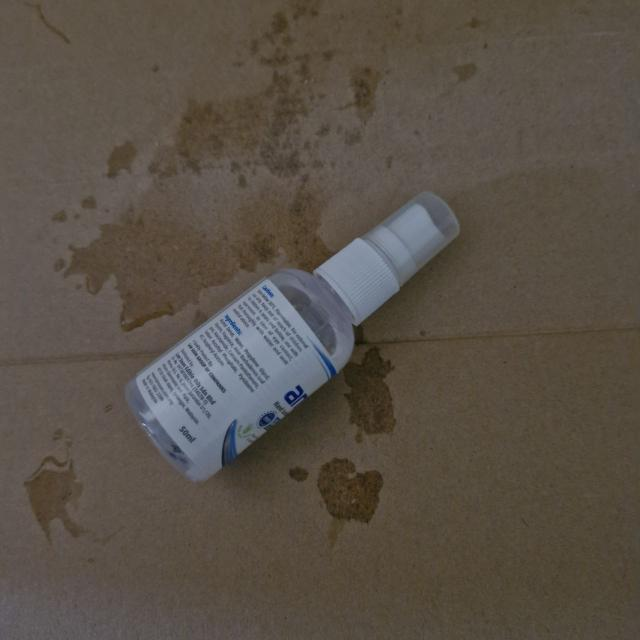plastic: (116, 184, 476, 495)
